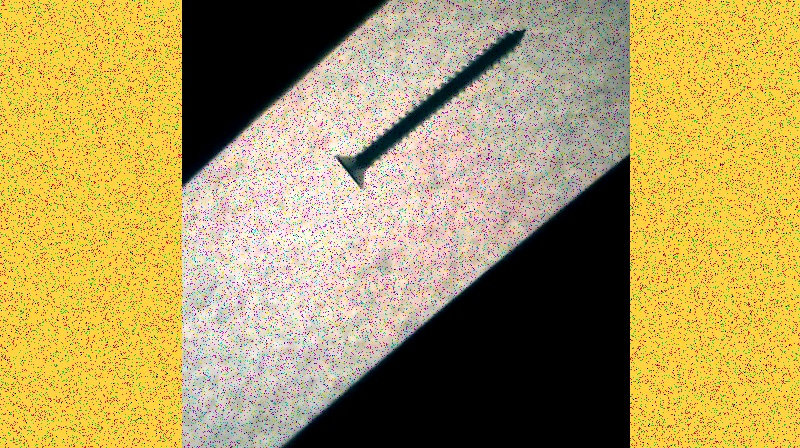S002: (332, 21, 531, 193)
